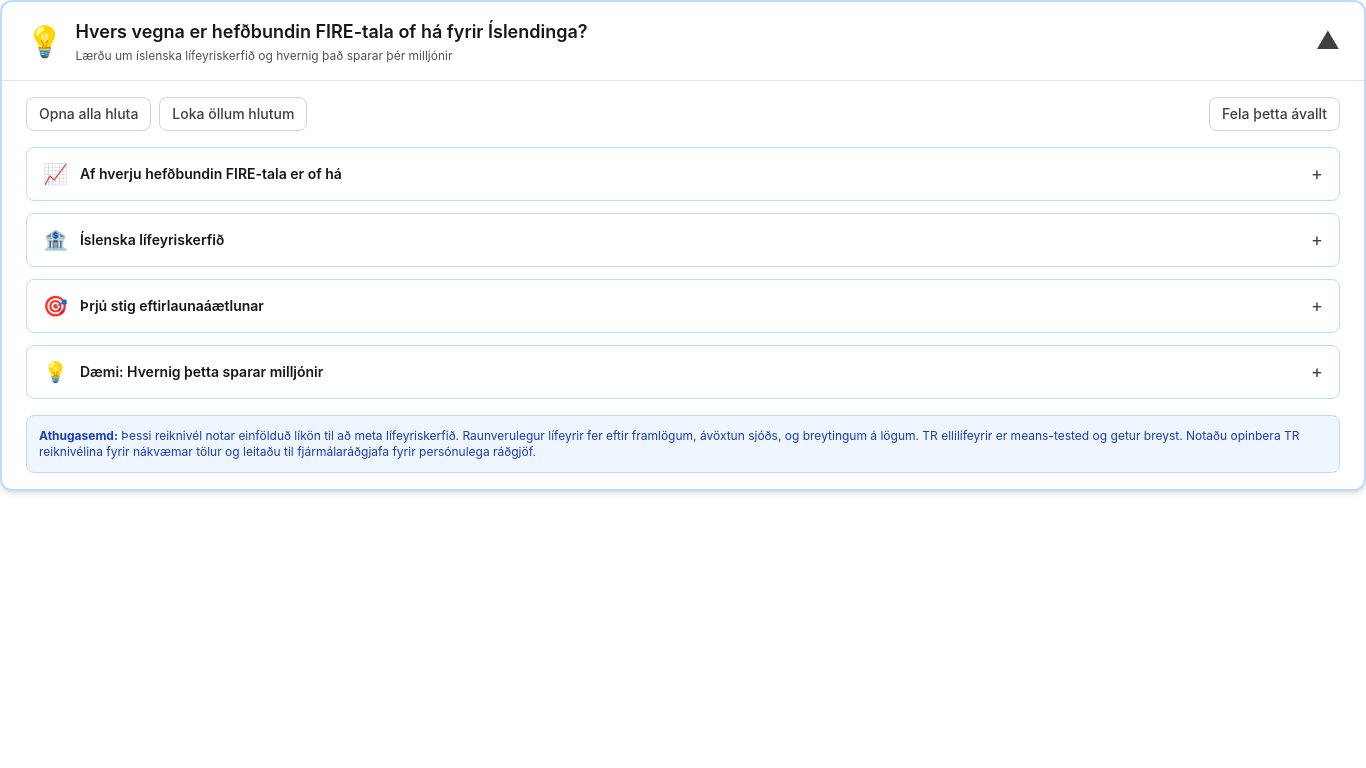
Test: PensionEducationalIntro › Section Expansion › expands a section when clicked
Click the button "📈 Af hverju hefðbundin FIRE-tala er of há +" at (211, 174), box [27,148,1339,200]
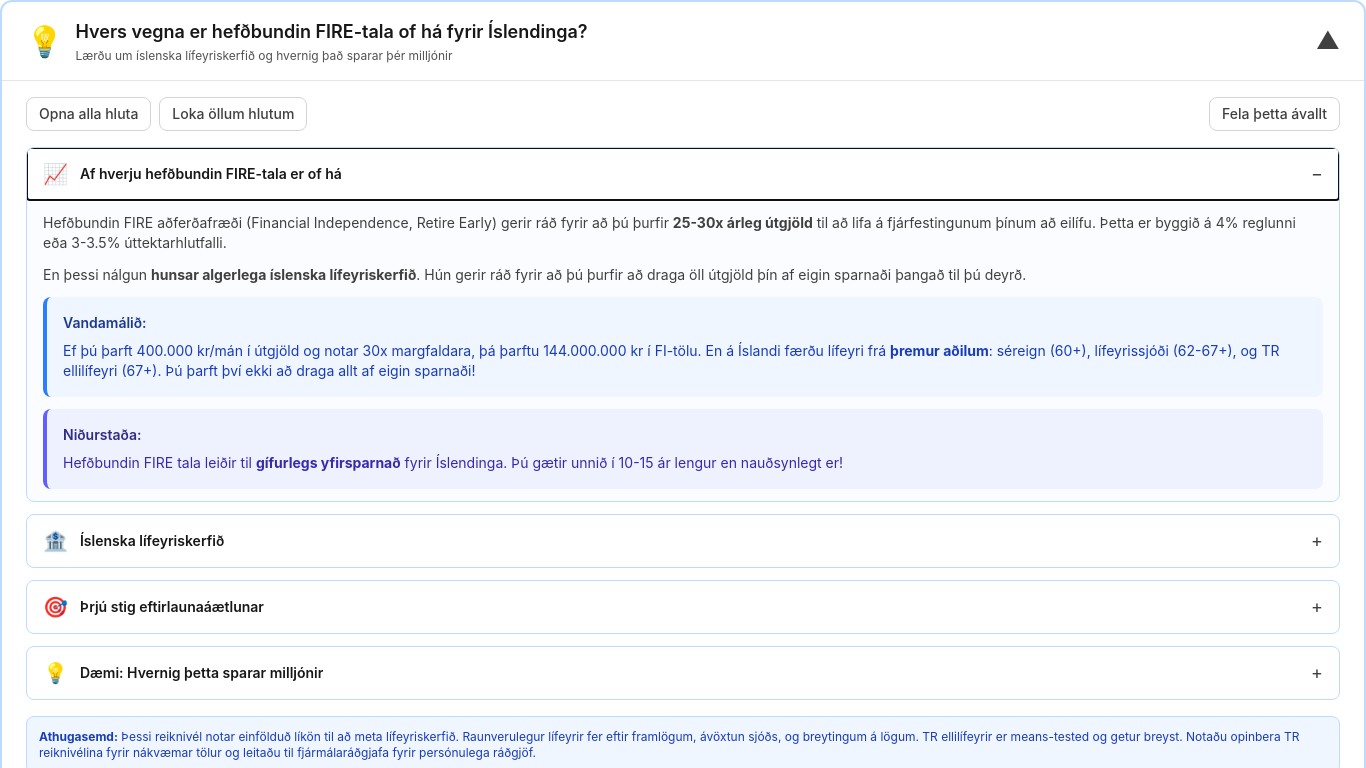
Check: the text "Hefðbundin FIRE aðferðafræði" is shown, box [43,214,673,231]
Check: the text "25-30x árleg útgjöld" is shown, box [673,214,813,231]
